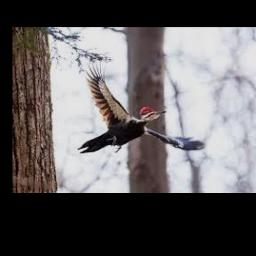Woodpecker: (78, 62, 206, 153)
